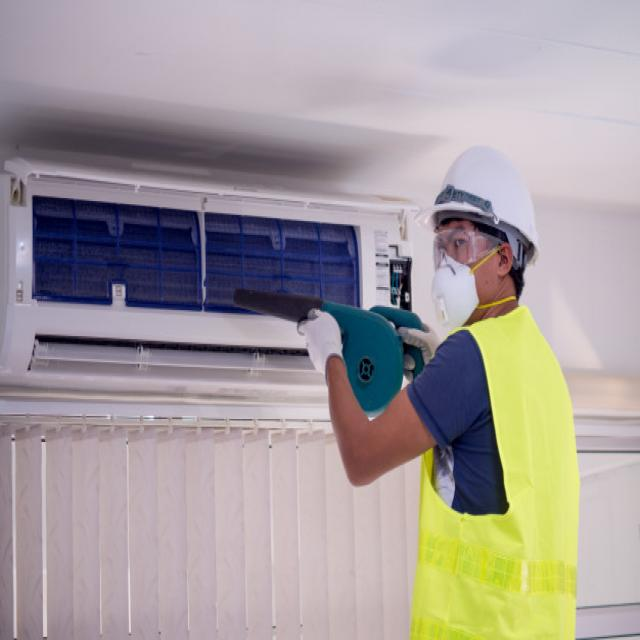Reflective-Jacket: (406, 307, 582, 634)
Safety-Helmet: (421, 138, 543, 260)
